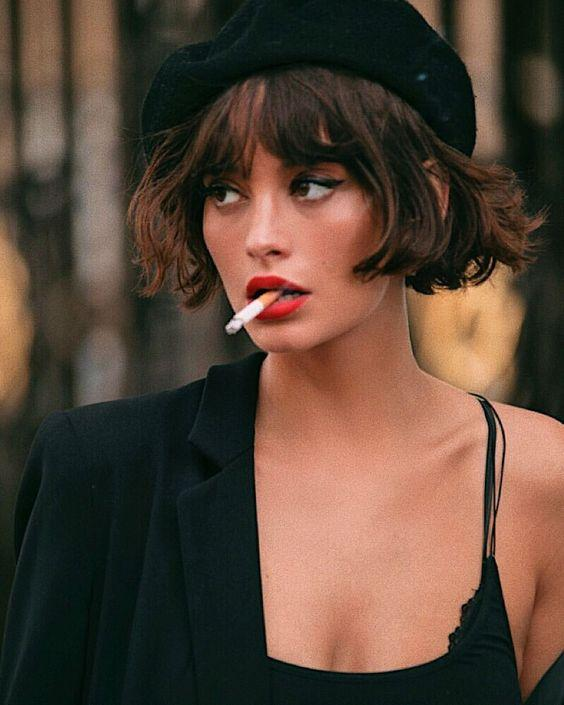cigarette: (225, 290, 283, 334)
